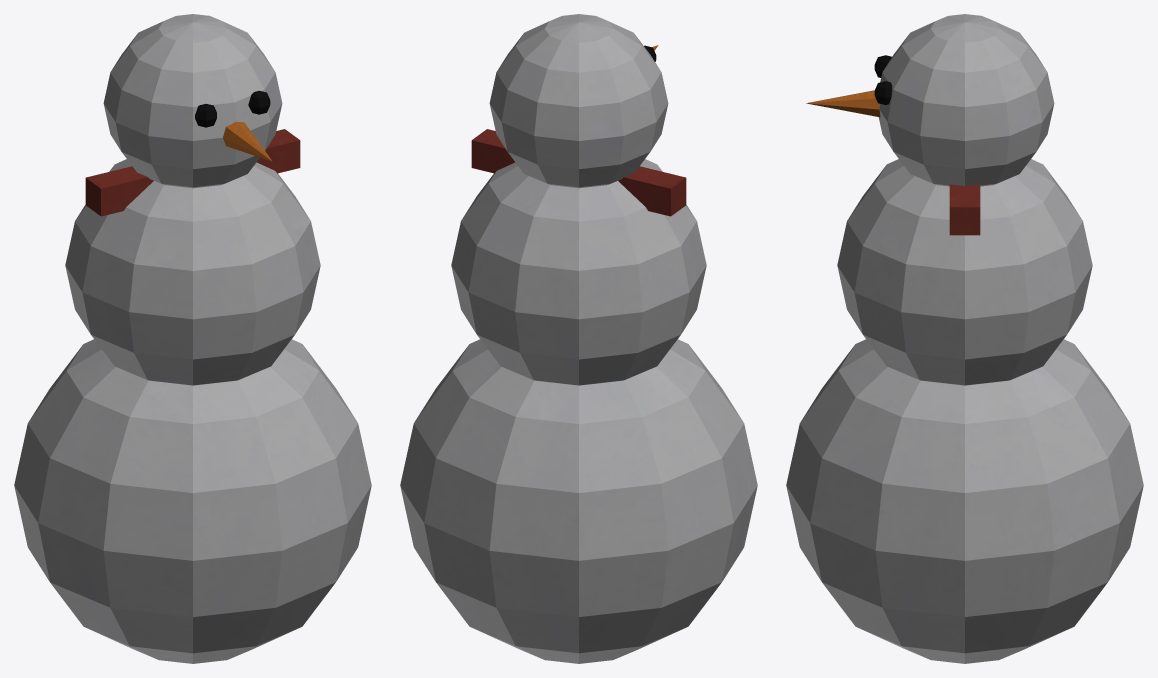
Rendered from snowman_01.glb.
The picture shows the model from 3 angles, left to right: view 1: azimuth 30°, elevation 25°; view 2: azimuth 150°, elevation 25°; view 3: azimuth 270°, elevation 25°; orthographic projection.
Visible parts, largest first — view 1: snowman_01; view 2: snowman_01; view 3: snowman_01.
Boxes of the visible parts, x1,y1,x2,y2 form: snowman_01: (14,14,371,663); snowman_01: (400,14,757,663); snowman_01: (786,14,1143,663).
Size of the model in its own units: 1.4 by 2.7 by 1.4.
4 materials, 4 textured.
